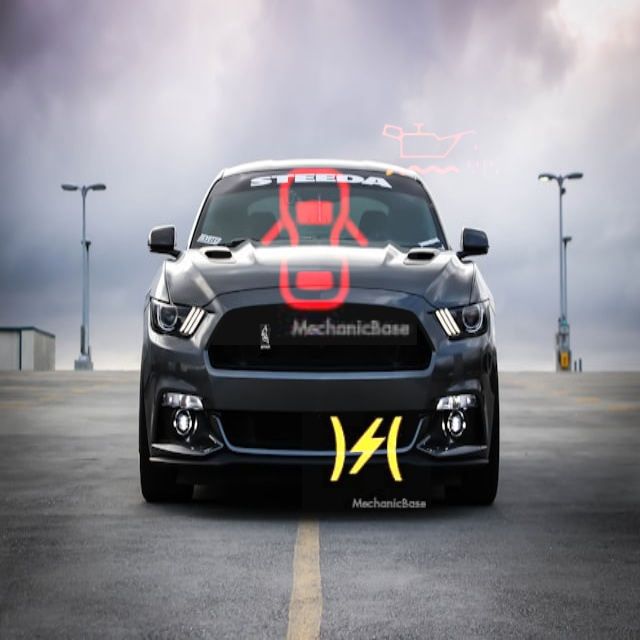symbol: (212, 140, 417, 345), (373, 84, 505, 216), (302, 385, 431, 514)
